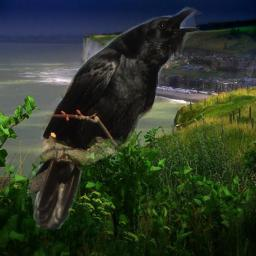Crow: (26, 4, 203, 229)
